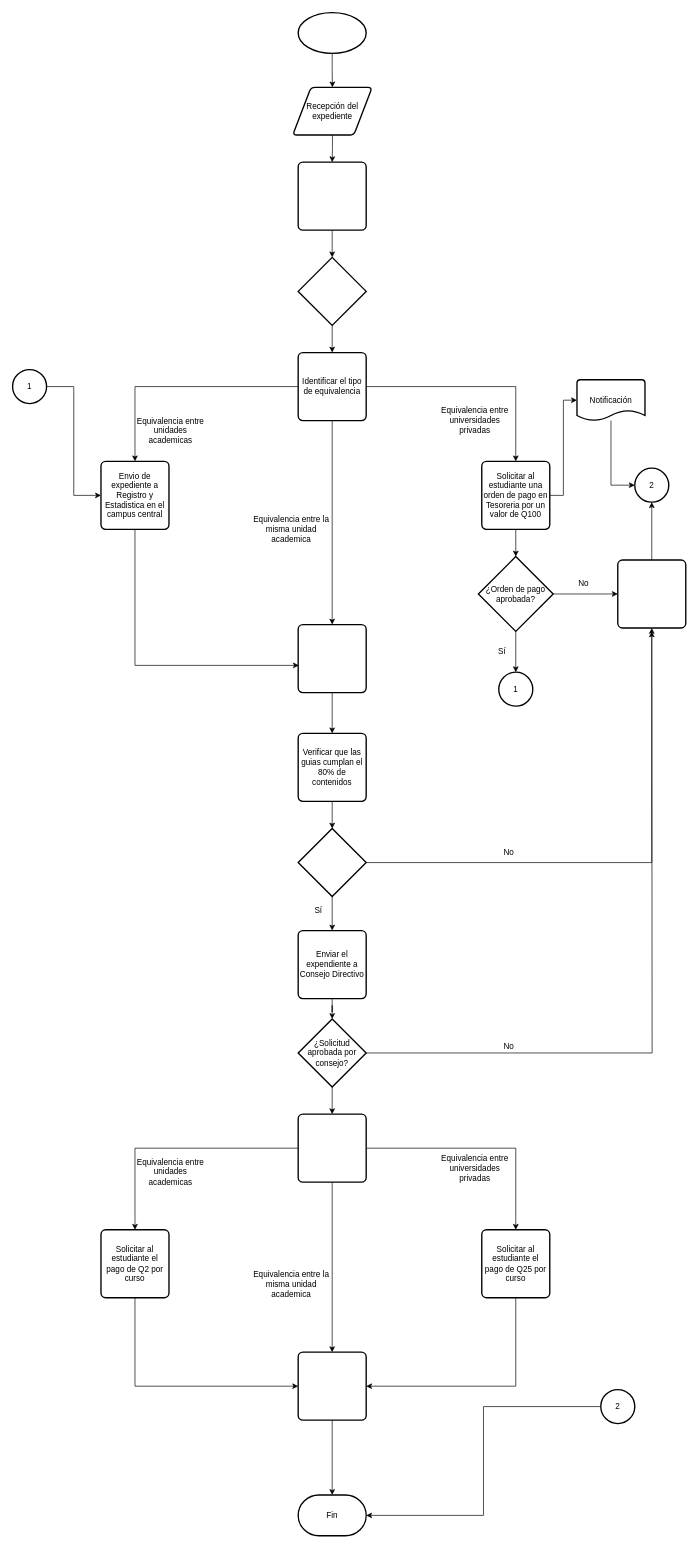
This 698x1548 diagram has some shape labels left out. Here are the shapes that lost their labels. From the top down, the box of each, then its label:
(297, 12, 367, 54): Inicio
(297, 161, 367, 231): Verificación de los requisitos
(297, 256, 367, 326): ¿Requisitos completos?
(617, 559, 686, 628): Notificar al estudiante
(297, 624, 367, 693): Enviar expediente al docente de la carrera respectiva
(297, 828, 367, 897): ¿Solicitud avalada?
(297, 1113, 367, 1183): Verificar el tipo de solicitud
(297, 1351, 367, 1421): Ingresar los cursos al sistema de control académico
